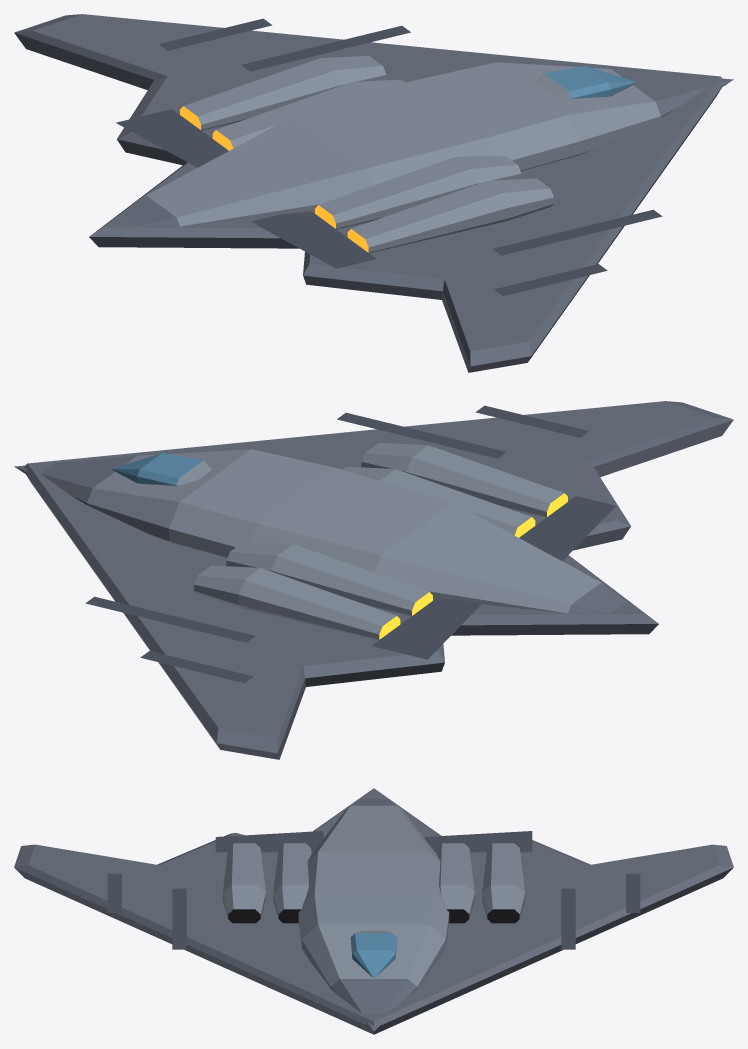
The model's file is bomber.glb.
3 renders of one model, top to bottom at view 1: azimuth 30°, elevation 25°; view 2: azimuth 150°, elevation 25°; view 3: azimuth 270°, elevation 25°, orthographic. The views are drawn at different scales.
Parts seen in each view (by area): view 1: Body; view 2: Body; view 3: Body.
Part boxes in pixels (box(x1,y1,x2,y2)): Body: box(14, 14, 733, 372); Body: box(14, 401, 733, 759); Body: box(14, 788, 733, 1034).
Size of the model in its own units: 1.6 by 0.1292 by 2.
